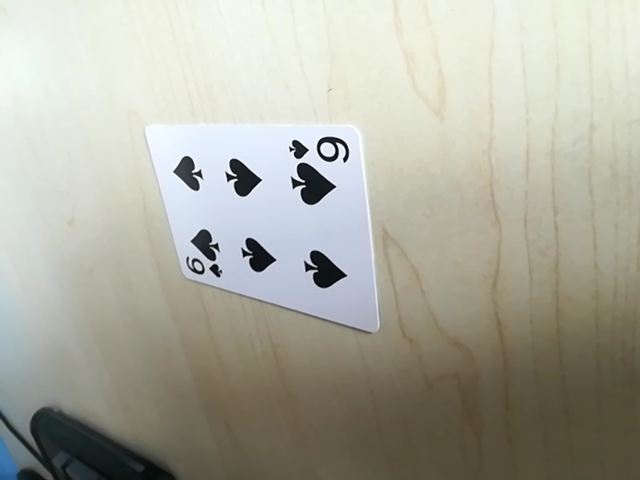ht 6: (291, 130, 353, 162), (174, 244, 220, 282)
